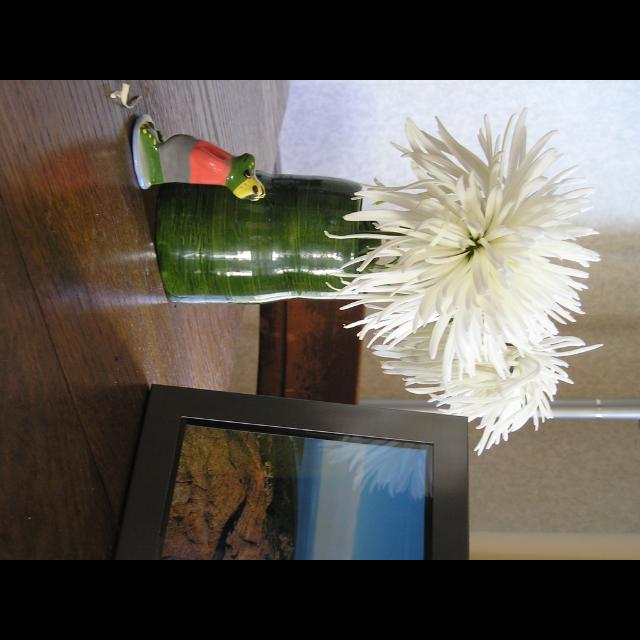Flower: (344, 115, 594, 448), (370, 336, 602, 456)
